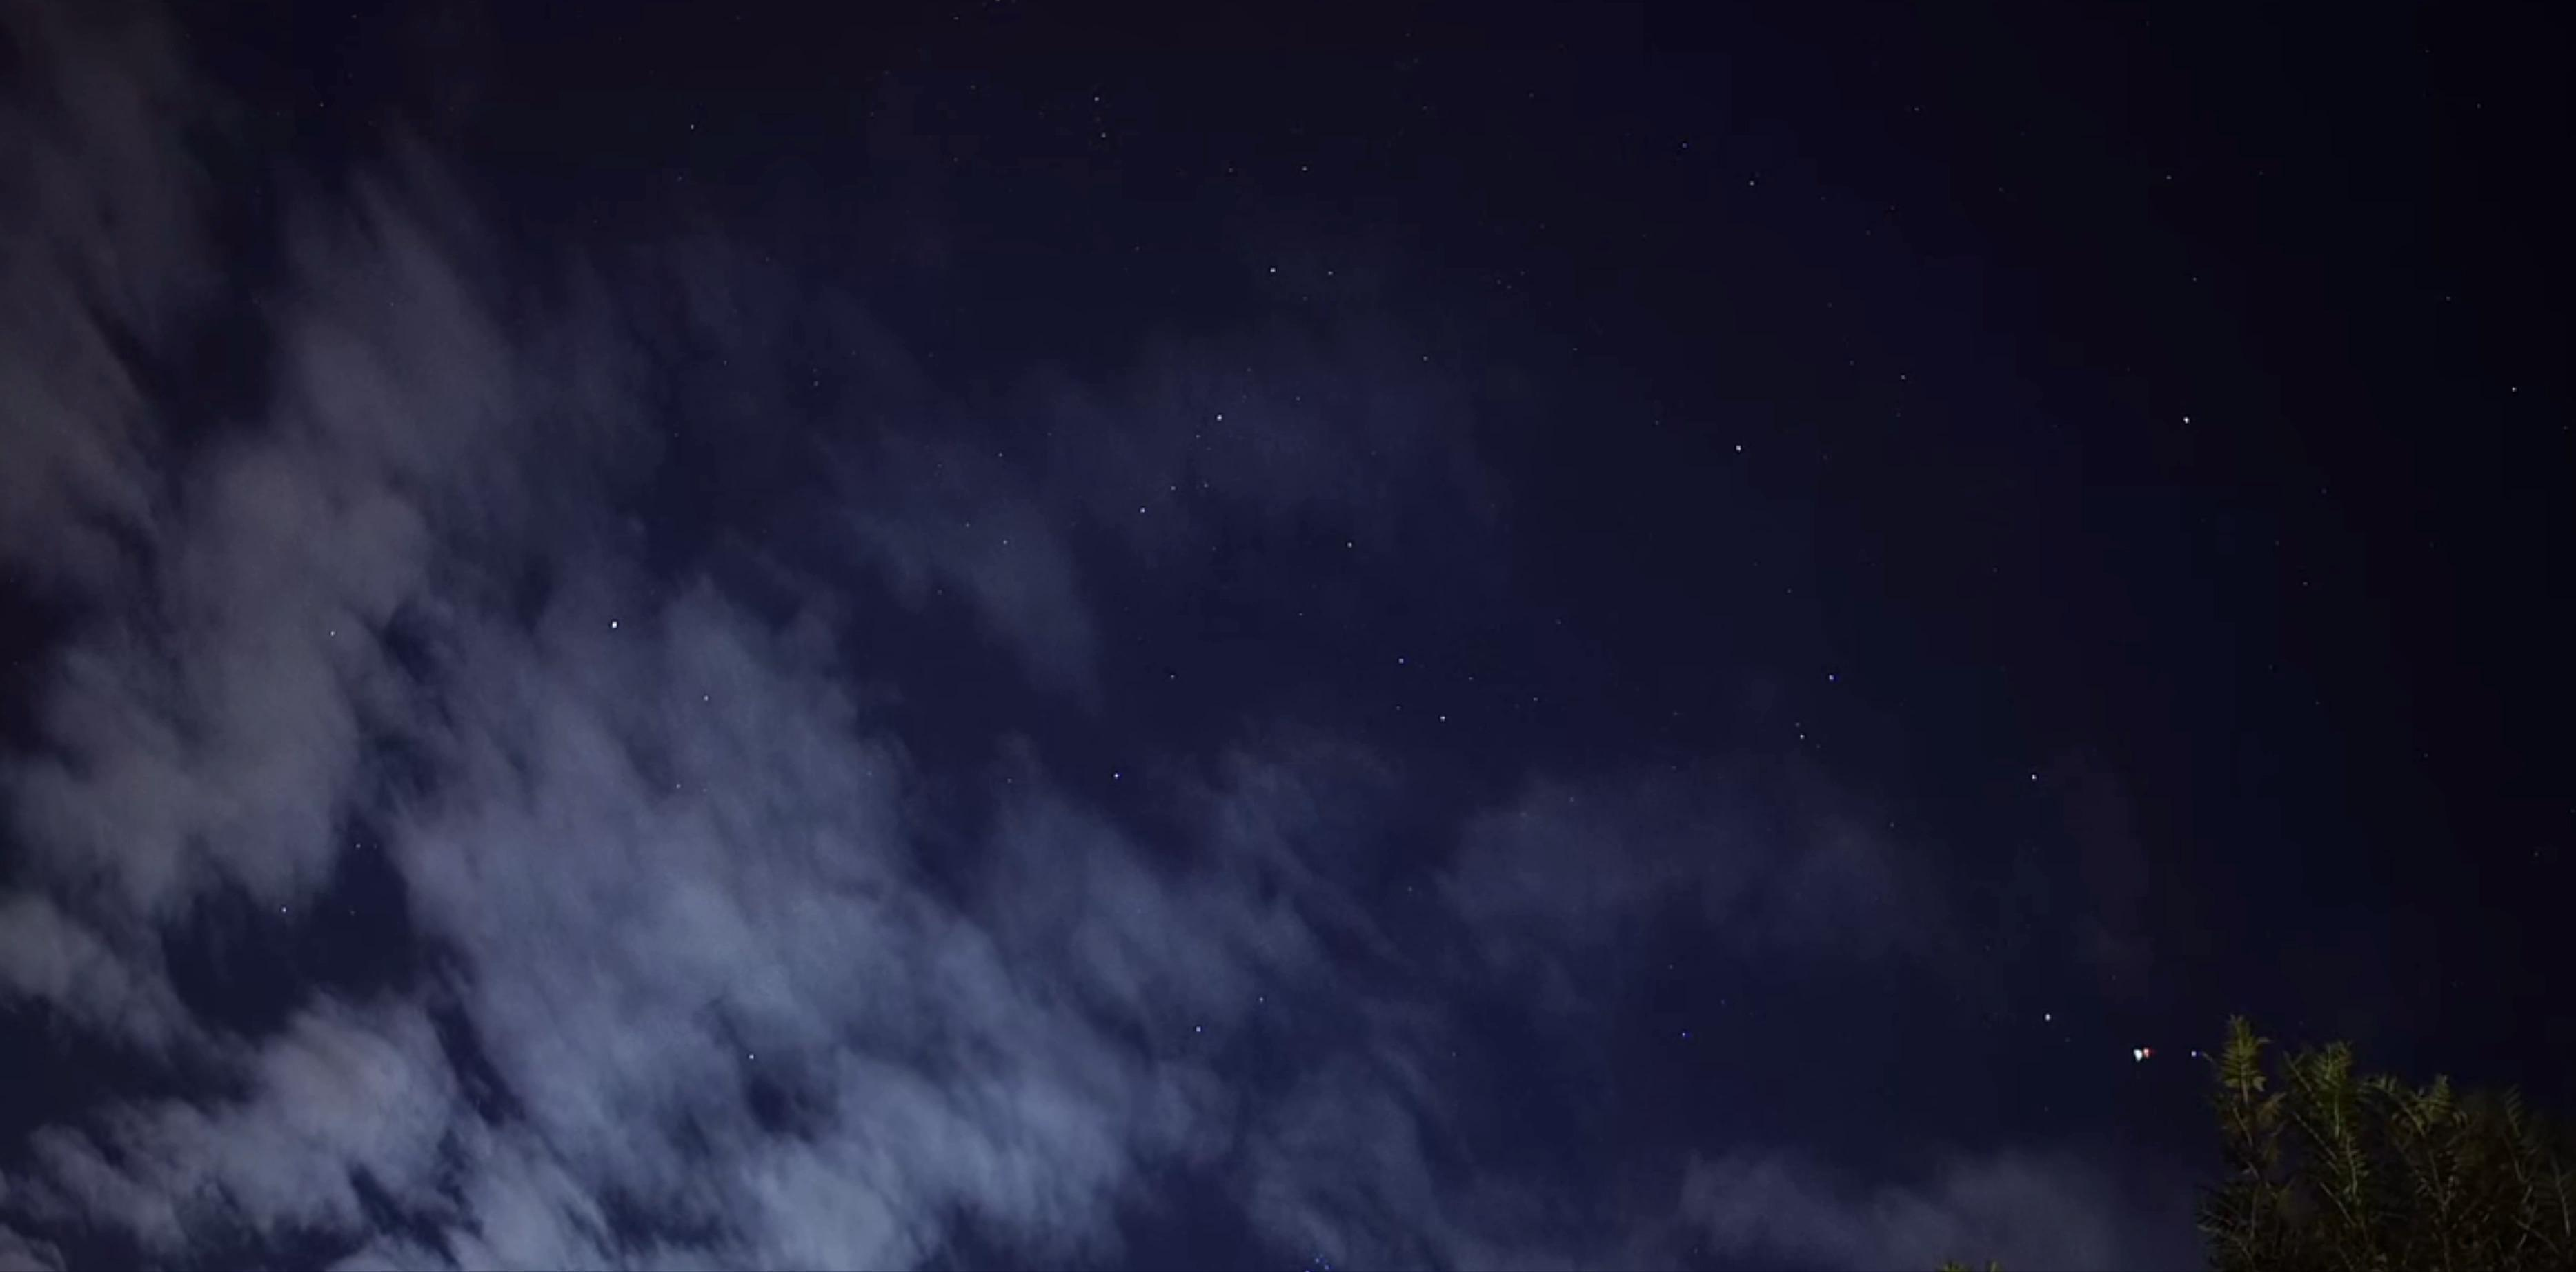Plane: (2111, 1037, 2169, 1073)
